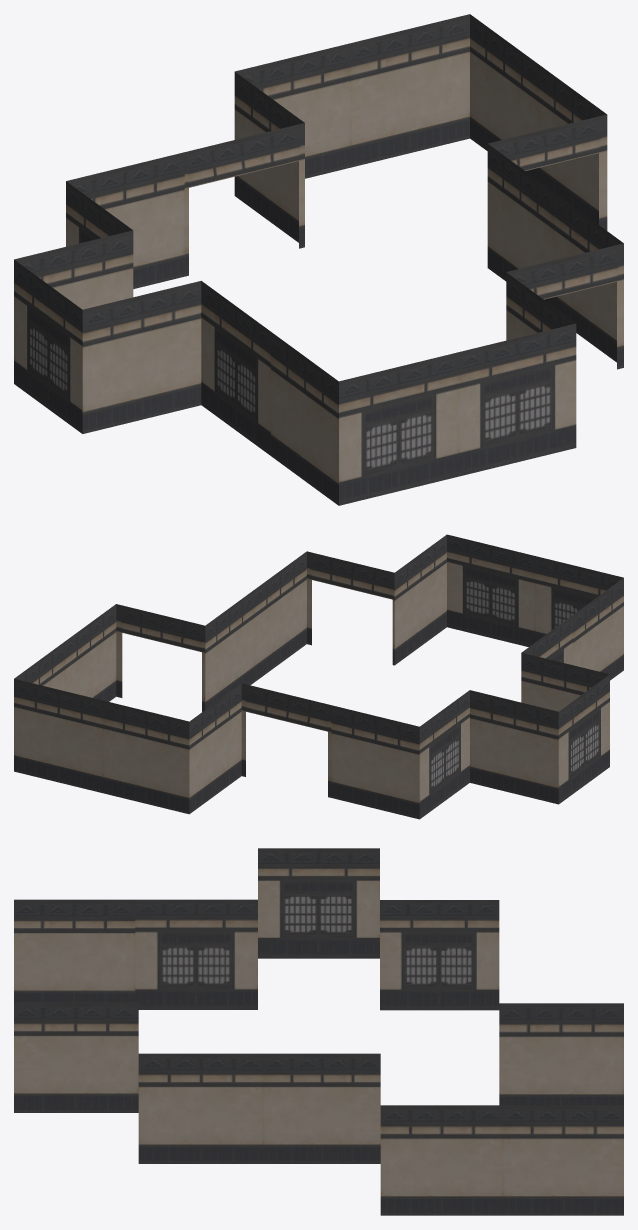
The model's file is Homeworld_Interior_Dq_Room_K_Filling_01_Vo.fbx.
3 renders of one model, top to bottom at view 1: azimuth 30°, elevation 25°; view 2: azimuth 150°, elevation 25°; view 3: azimuth 270°, elevation 25°, orthographic. The views are drawn at different scales.
Visible parts, largest first — view 1: Homeworld_Interior_Dq_Room_K_Filling_01_Vo; view 2: Homeworld_Interior_Dq_Room_K_Filling_01_Vo; view 3: Homeworld_Interior_Dq_Room_K_Filling_01_Vo.
Part boxes in pixels (x1,y1,x2,y2): Homeworld_Interior_Dq_Room_K_Filling_01_Vo: (14, 14, 623, 505); Homeworld_Interior_Dq_Room_K_Filling_01_Vo: (14, 534, 623, 819); Homeworld_Interior_Dq_Room_K_Filling_01_Vo: (14, 848, 623, 1215).
Size of the model in its own units: 24.85 by 4.98 by 24.91.
